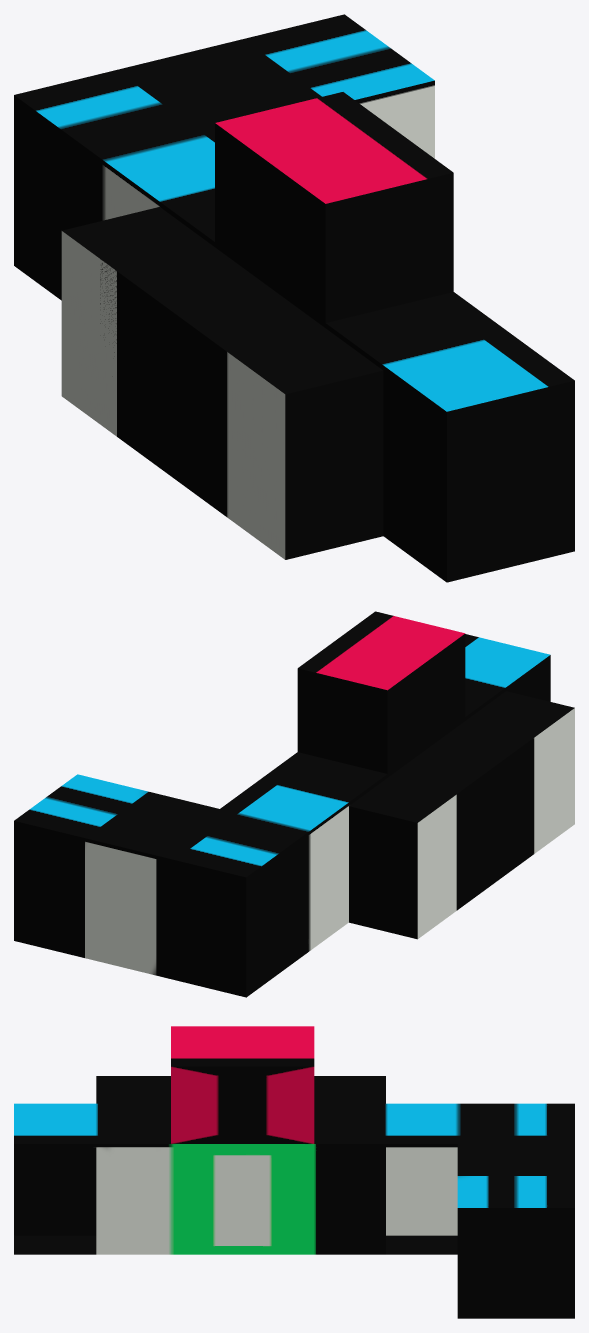
File: house 5 do 12.fbx
3 renders of one model, top to bottom at view 1: azimuth 30°, elevation 25°; view 2: azimuth 150°, elevation 25°; view 3: azimuth 270°, elevation 25°, orthographic. The views are drawn at different scales.
Parts seen in each view (by area): view 1: Cube; view 2: Cube; view 3: Cube.
Part boxes in pixels (x1,y1,x2,y2): Cube: [14, 14, 574, 582]; Cube: [14, 611, 574, 997]; Cube: [14, 1026, 574, 1318].
Size of the model in its own units: 1149 by 743 by 2010.
